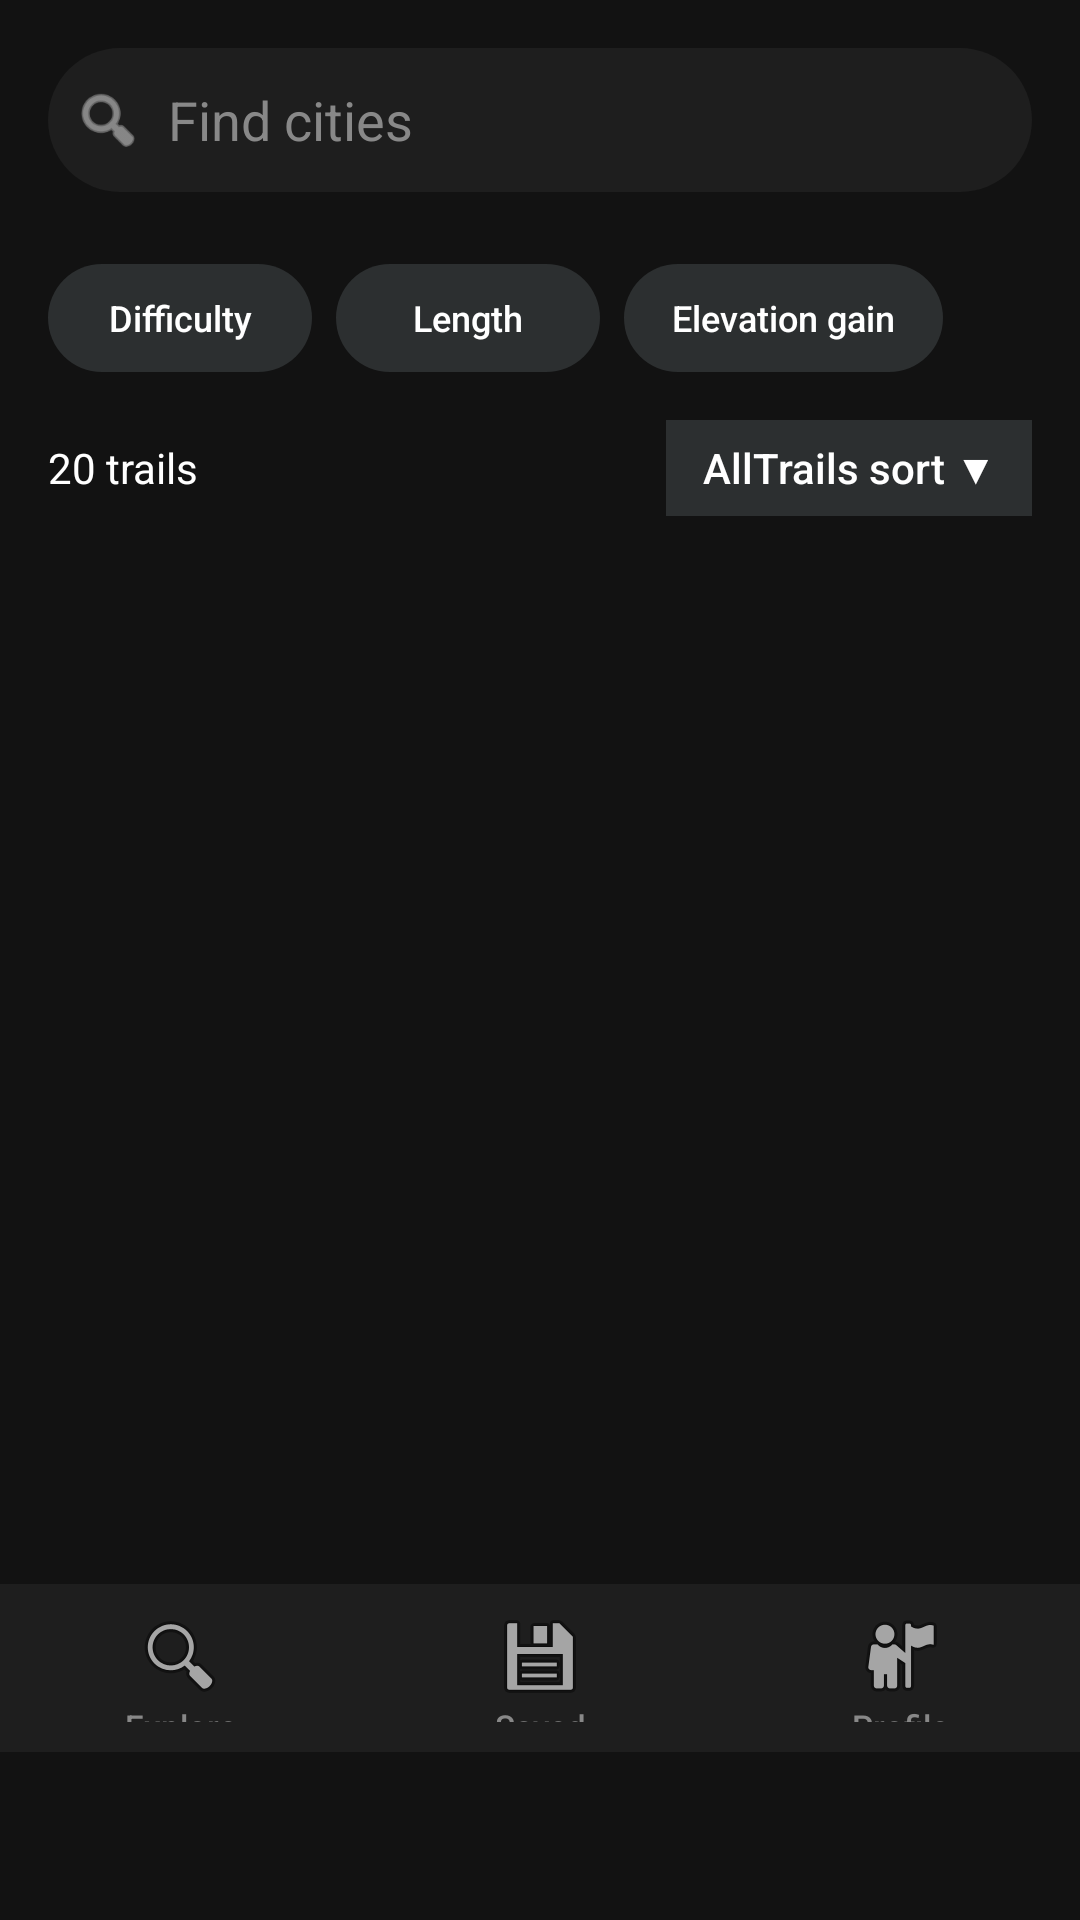

Named icons in this screenshot (1080px x 1920px) and their bounding boxes, (x1, y1, x2, y2):
Search Icon: (81, 94, 135, 147)
